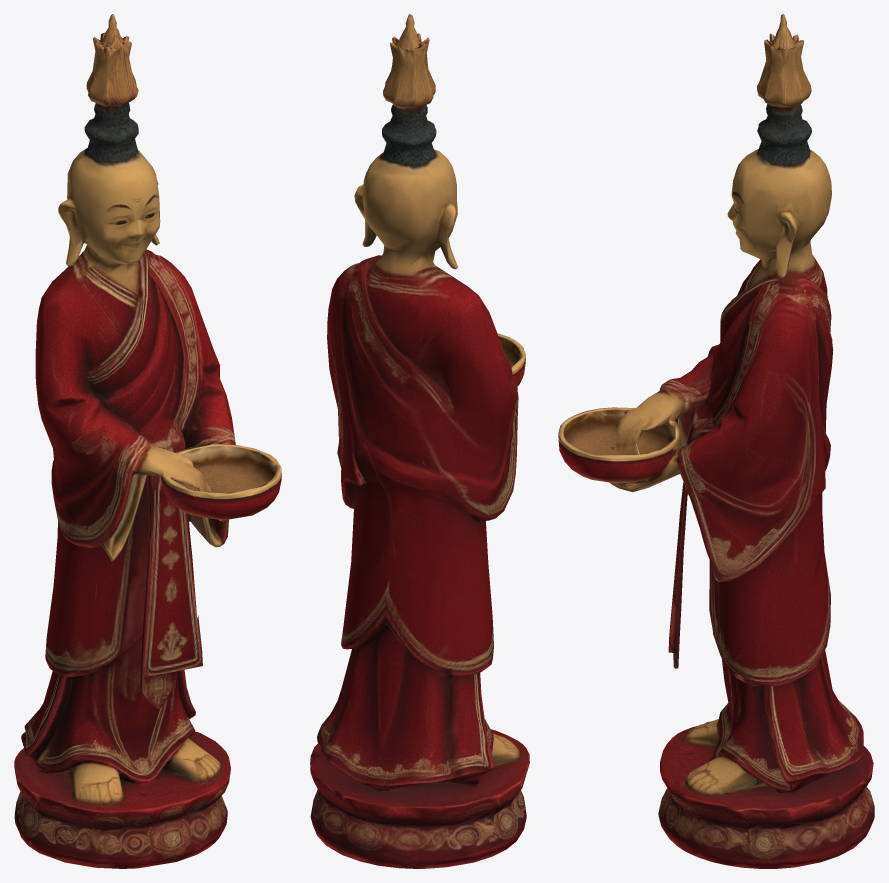
Rendered from cu-bat-la-han.glb.
The picture shows the model from 3 angles, left to right: view 1: azimuth 30°, elevation 25°; view 2: azimuth 150°, elevation 25°; view 3: azimuth 270°, elevation 25°; orthographic projection.
Bounding box in the file's own units: 0.4672 × 1.9 × 0.6714.
1 material, 1 textured.
